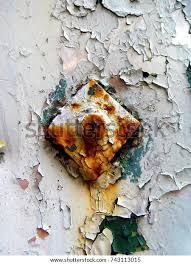rust: (42, 74, 143, 182), (71, 155, 111, 183), (115, 113, 142, 149), (74, 116, 109, 142), (47, 122, 76, 152)
